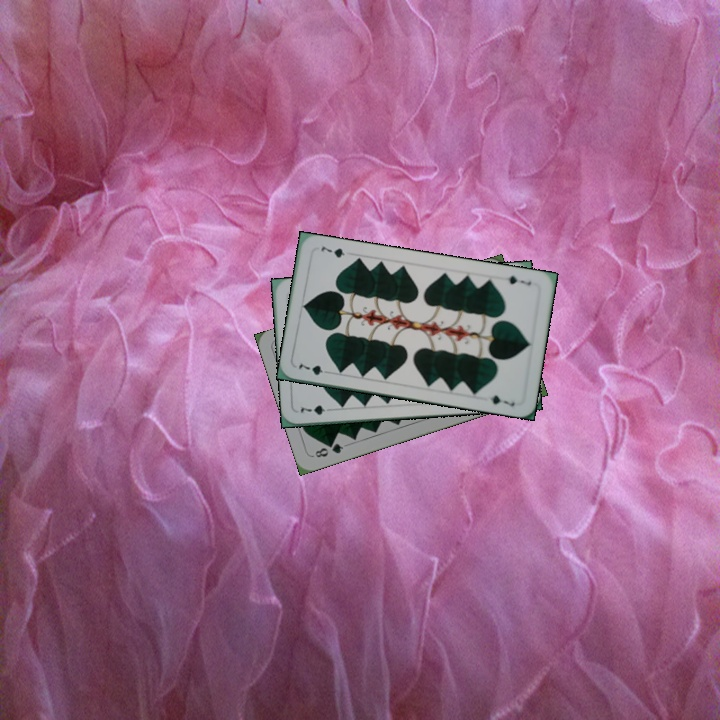G7: (295, 359, 334, 378), (297, 401, 336, 417), (504, 272, 533, 288)
G8: (311, 439, 346, 460)
